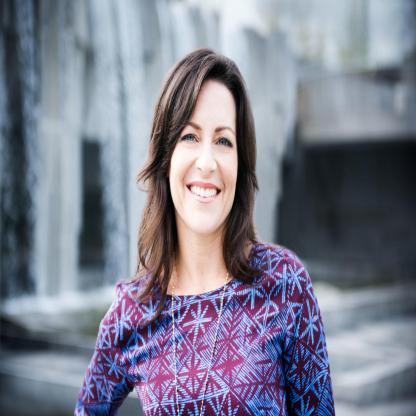sem_capacete: (141, 45, 262, 246)
sem_colete_refletivo: (69, 238, 339, 416)
